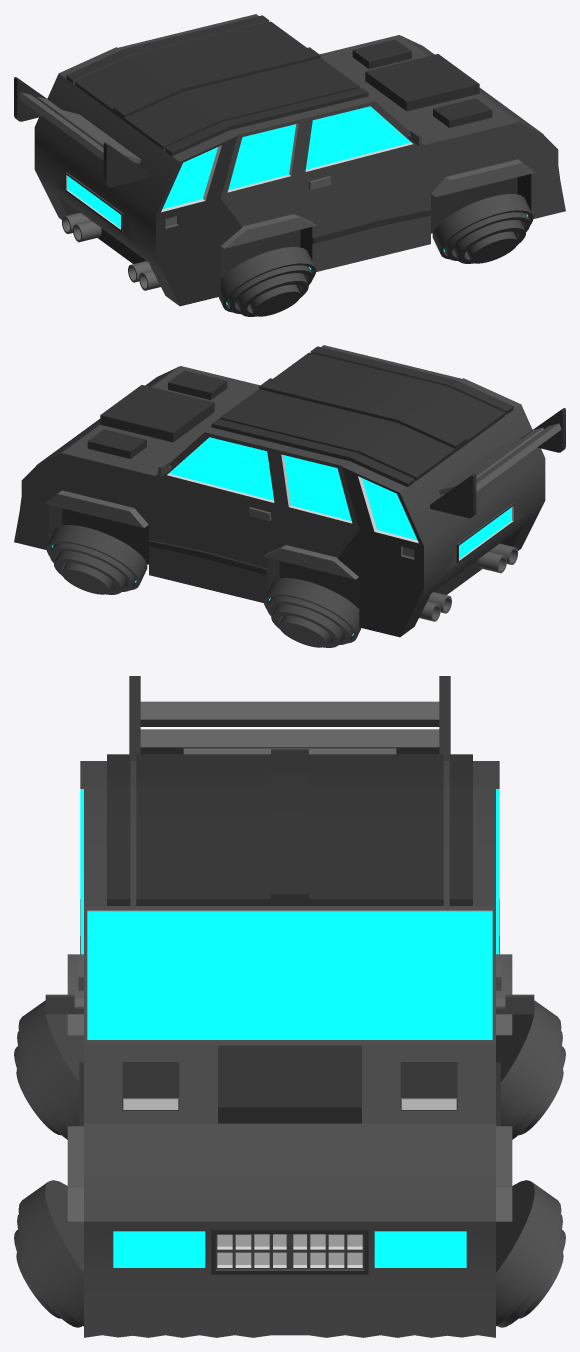
File: SM_Car_B.fbx
3 renders of one model, top to bottom at view 1: azimuth 30°, elevation 25°; view 2: azimuth 150°, elevation 25°; view 3: azimuth 270°, elevation 25°, orthographic. The views are drawn at different scales.
Parts seen in each view (by area): view 1: SM_Car_B; view 2: SM_Car_B; view 3: SM_Car_B.
Boxes of the visible parts, left/top/right/bottom form: SM_Car_B: left=14, top=14, right=565, bottom=316; SM_Car_B: left=14, top=345, right=565, bottom=647; SM_Car_B: left=14, top=676, right=565, bottom=1337.
Bounding box in the file's own units: 205 × 86.56 × 127.
